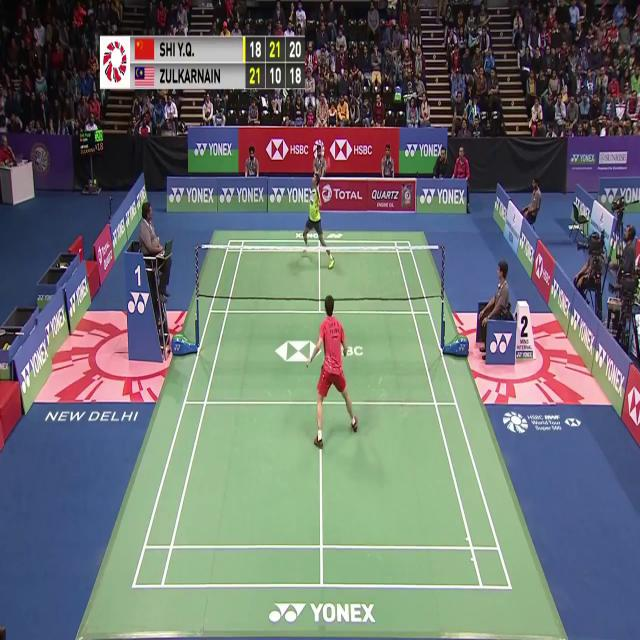Shuttlecock: (281, 112, 288, 124)
